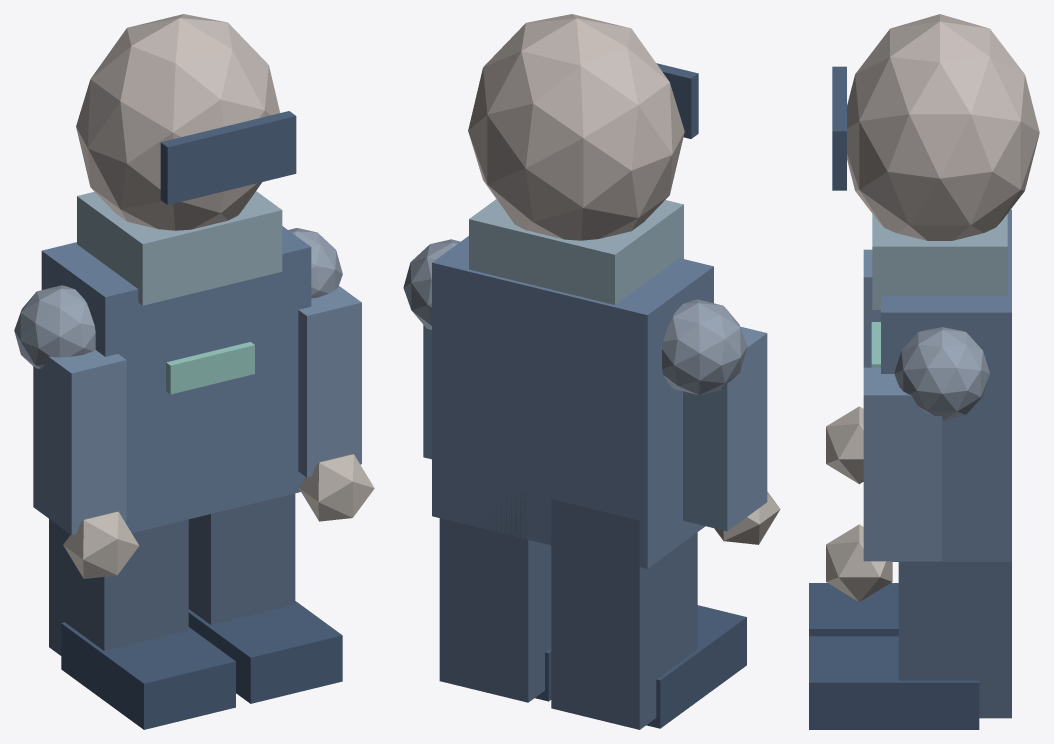
The model's file is agent_avatar.glb.
3 views of the same model, side by side, from view 1: azimuth 30°, elevation 25°; view 2: azimuth 150°, elevation 25°; view 3: azimuth 270°, elevation 25° (orthographic). The views are drawn at different scales.
Visible parts, largest first — view 1: world; view 2: world; view 3: world.
Part boxes in pixels (x1=…): world: x1=14, y1=14, x2=374, y2=729; world: x1=403, y1=14, x2=780, y2=729; world: x1=809, y1=14, x2=1039, y2=729.
Size of the model in its own units: 0.86 by 1.67 by 0.5288.
